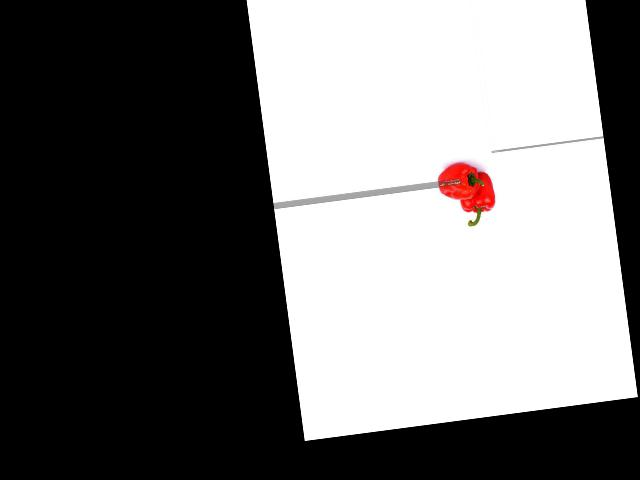bell_pepper: (430, 161, 485, 206)
